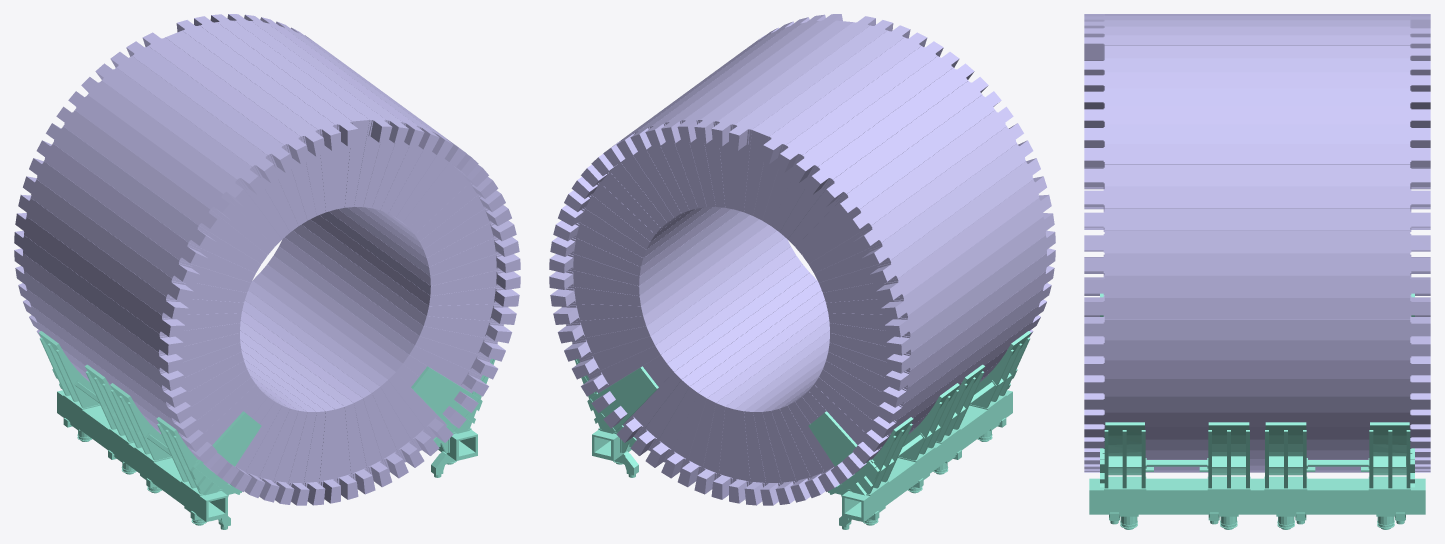
The model's file is Tile-Barrel.glb.
The picture shows the model from 3 angles, left to right: view 1: azimuth 30°, elevation 25°; view 2: azimuth 150°, elevation 25°; view 3: azimuth 270°, elevation 25°; orthographic projection. The views are drawn at different scales.
Visible parts, largest first — view 1: null; view 2: null; view 3: null.
Boxes of the visible parts, left/top/right/bottom form: null: left=14, top=14, right=520, bottom=529; null: left=549, top=14, right=1055, bottom=529; null: left=1084, top=14, right=1430, bottom=529.
Bounding box in the file's own units: 8.47 × 8.73 × 6.39.
